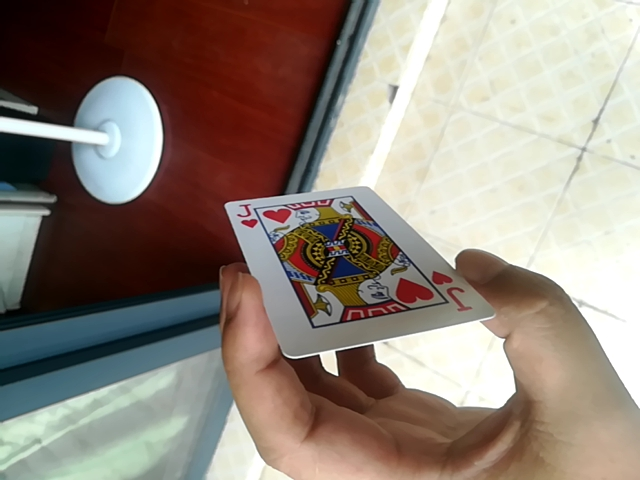hx j: (220, 183, 489, 361)
